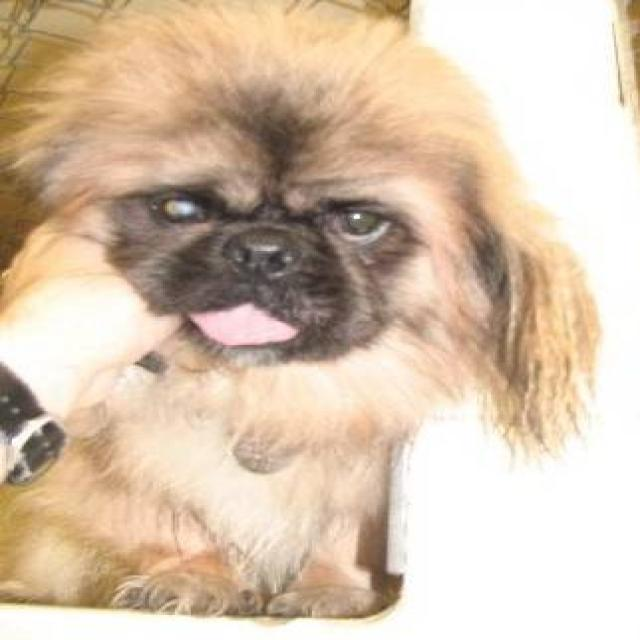dog: (0, 0, 602, 619)
